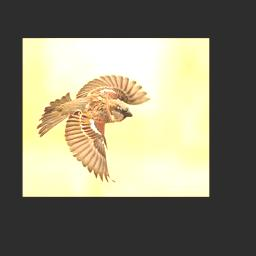Sparrow: (36, 74, 151, 182)
